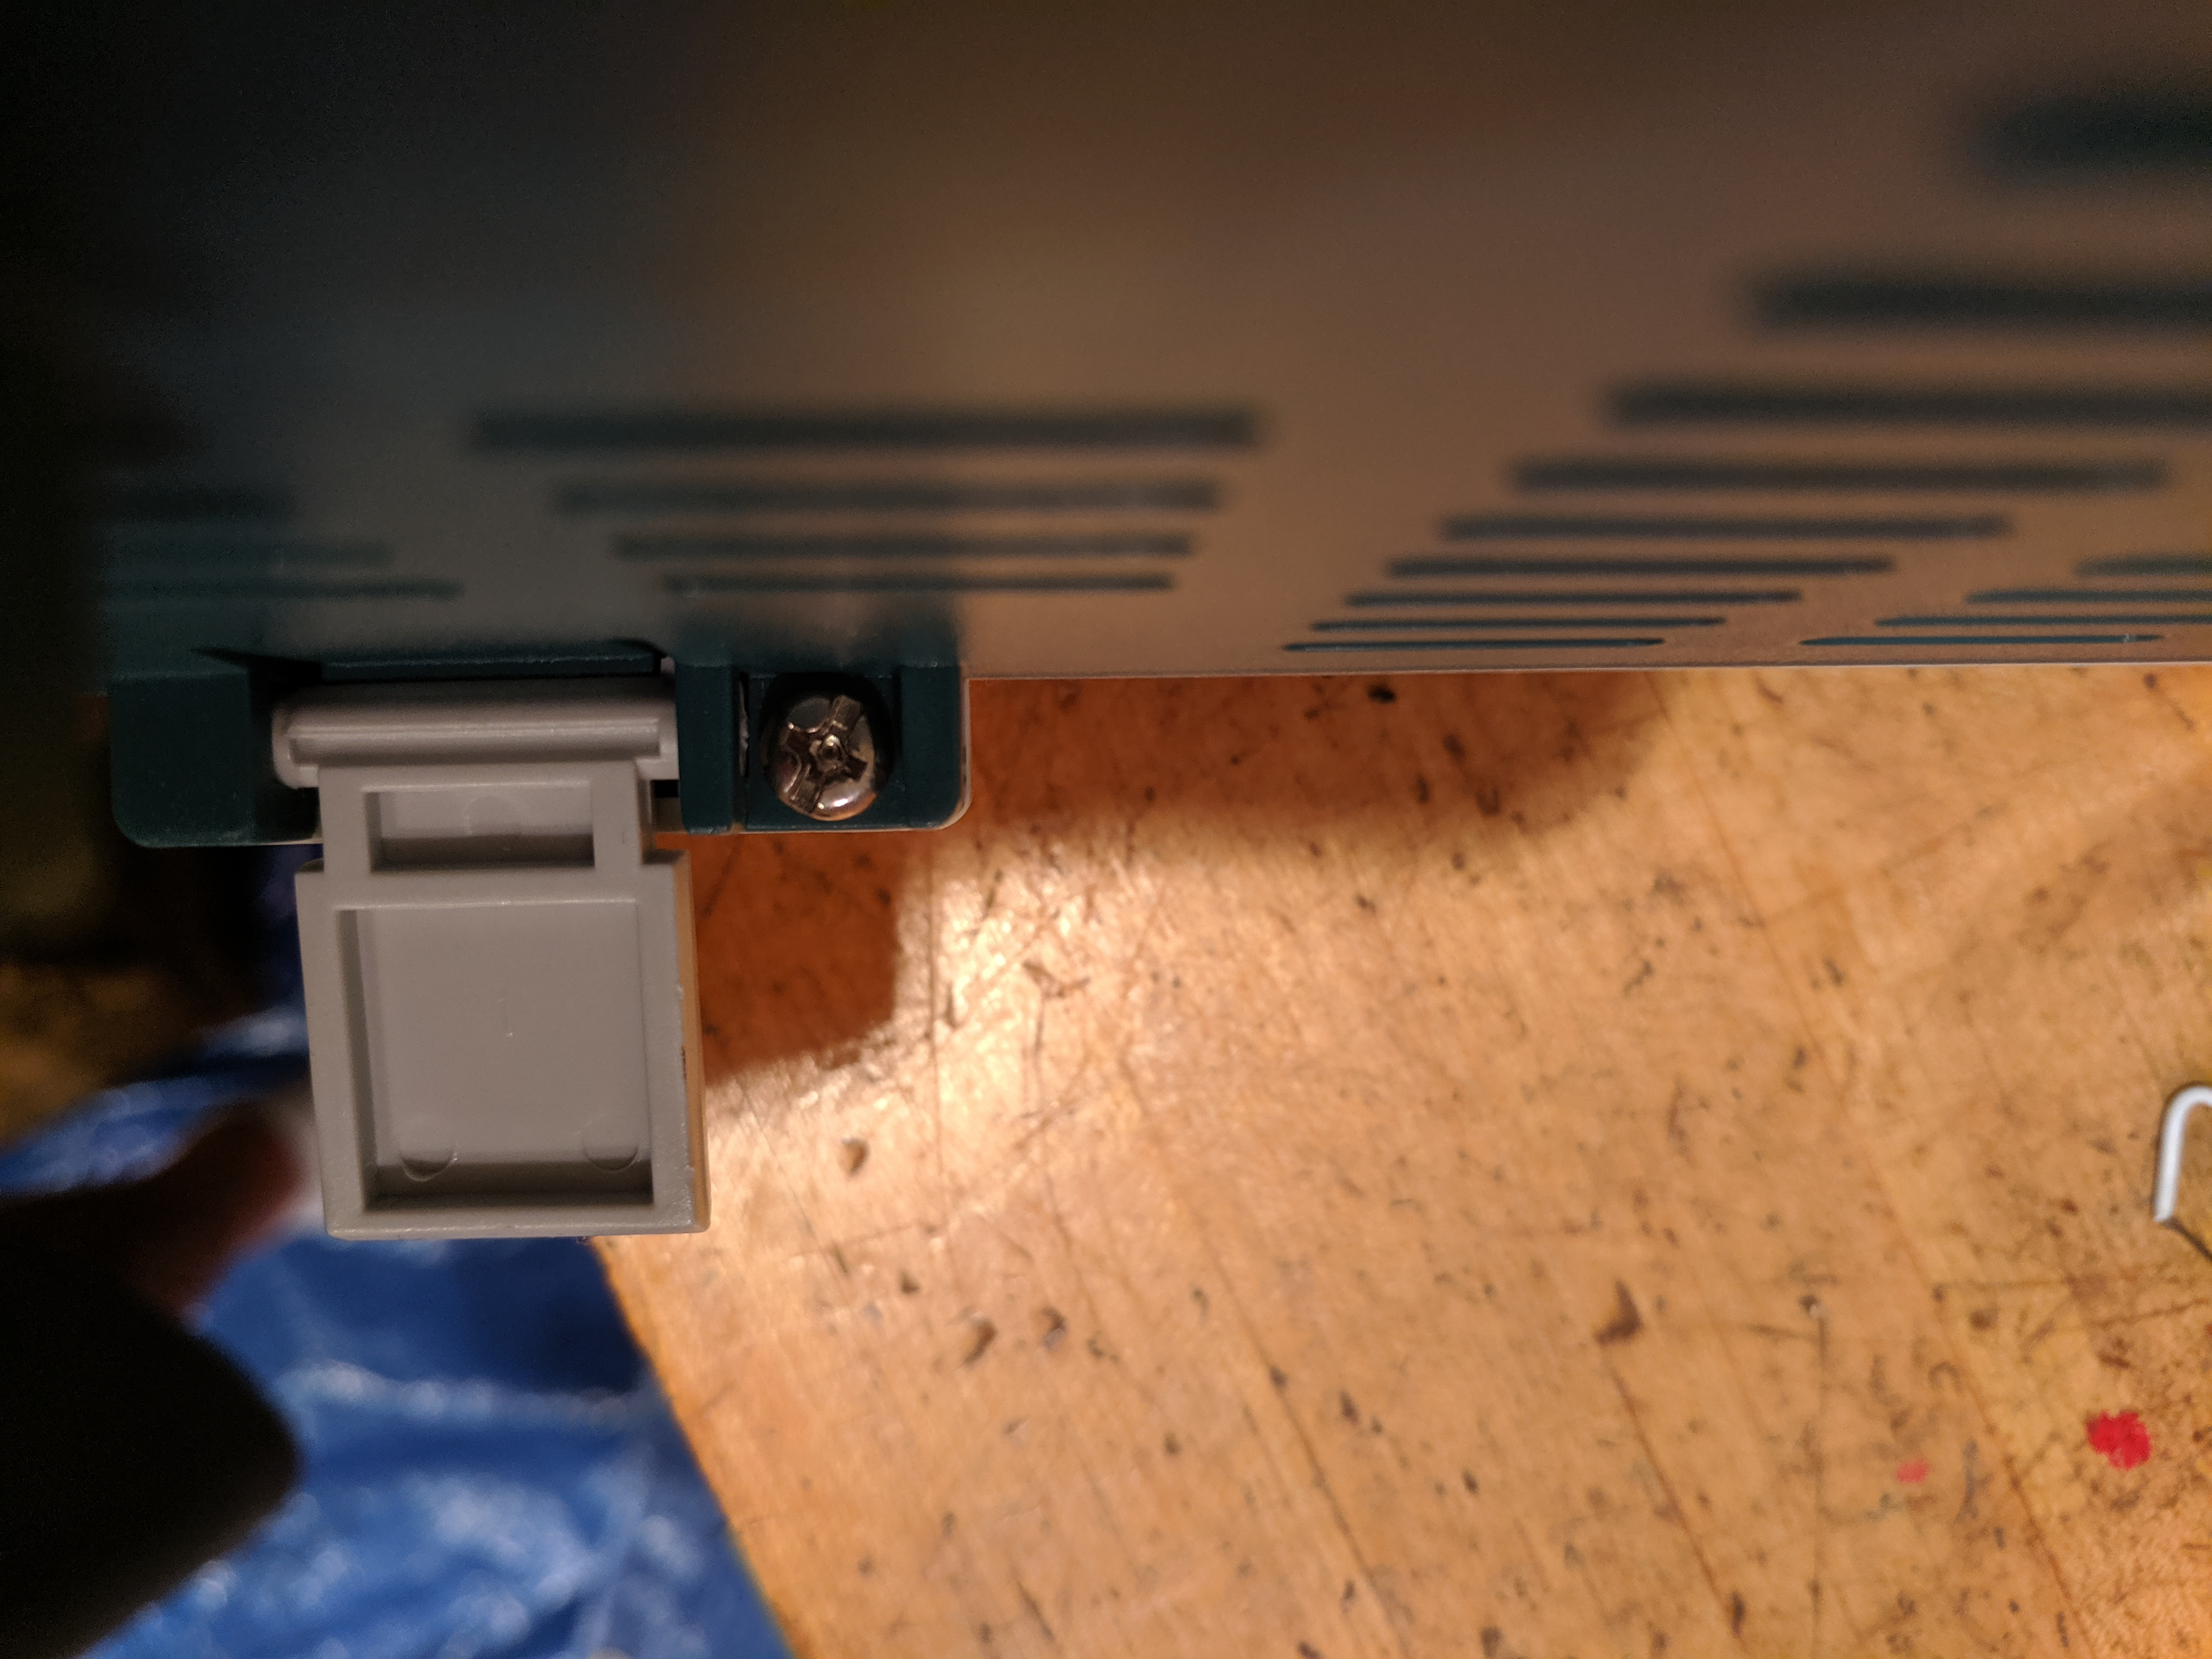cross_recessed_screw: (758, 690, 878, 803)
